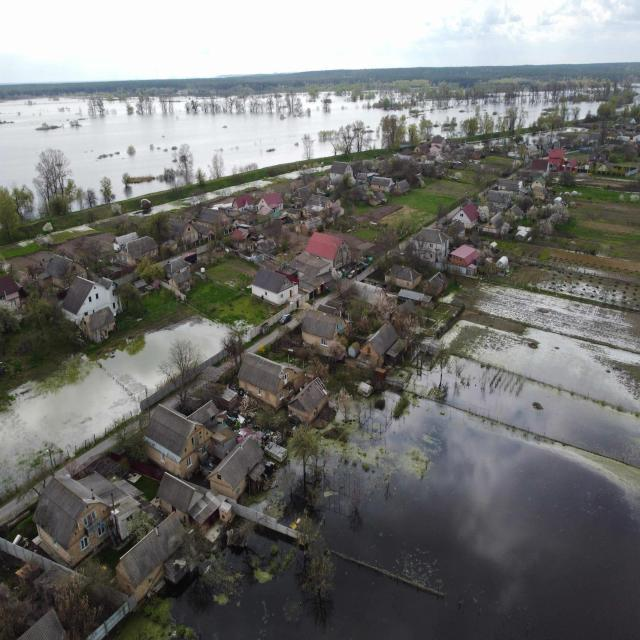flood: (179, 329, 640, 640), (0, 92, 391, 198), (0, 321, 225, 482), (500, 298, 640, 348), (396, 98, 552, 134)
house: (38, 472, 122, 564), (114, 511, 186, 584), (57, 270, 119, 346), (142, 404, 207, 476), (240, 346, 311, 409), (206, 432, 263, 500), (301, 310, 353, 358), (156, 471, 208, 514), (10, 604, 70, 640), (366, 317, 404, 369), (288, 376, 329, 424), (306, 231, 352, 269), (252, 268, 296, 305), (412, 228, 450, 264), (449, 240, 481, 276), (386, 265, 422, 289), (454, 202, 480, 228), (330, 160, 355, 186), (173, 220, 200, 244), (256, 192, 284, 214)
